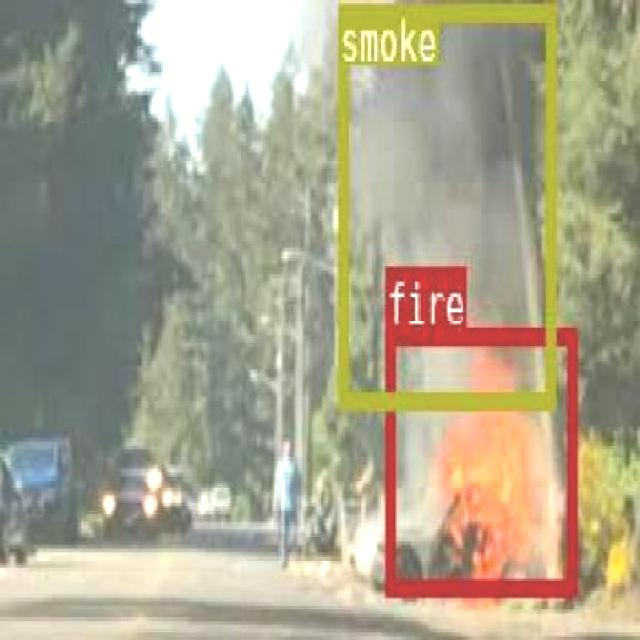fire: (386, 326, 574, 594)
smoke: (338, 3, 554, 408)
